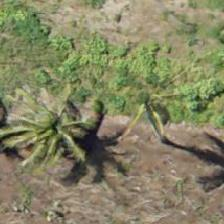coconut_tree: (11, 84, 101, 174)
